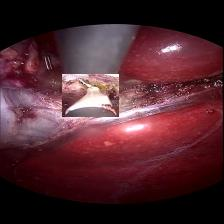Hook: (62, 73, 119, 116)
